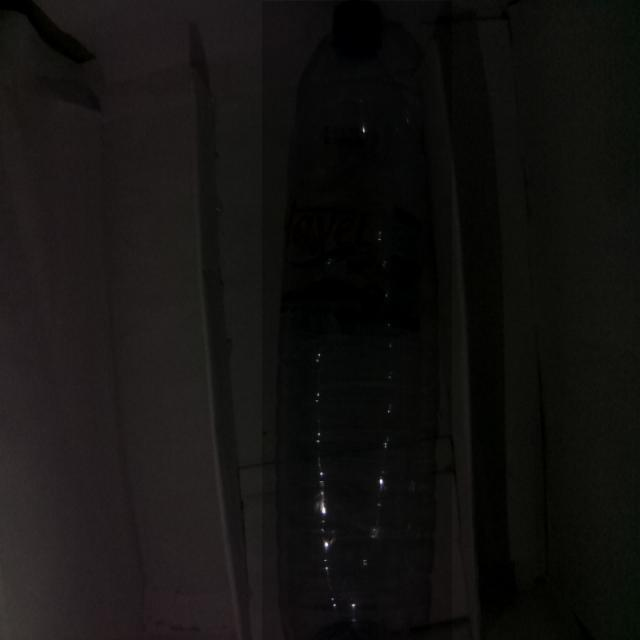BIODEGRADABLE: (262, 1, 452, 640)
